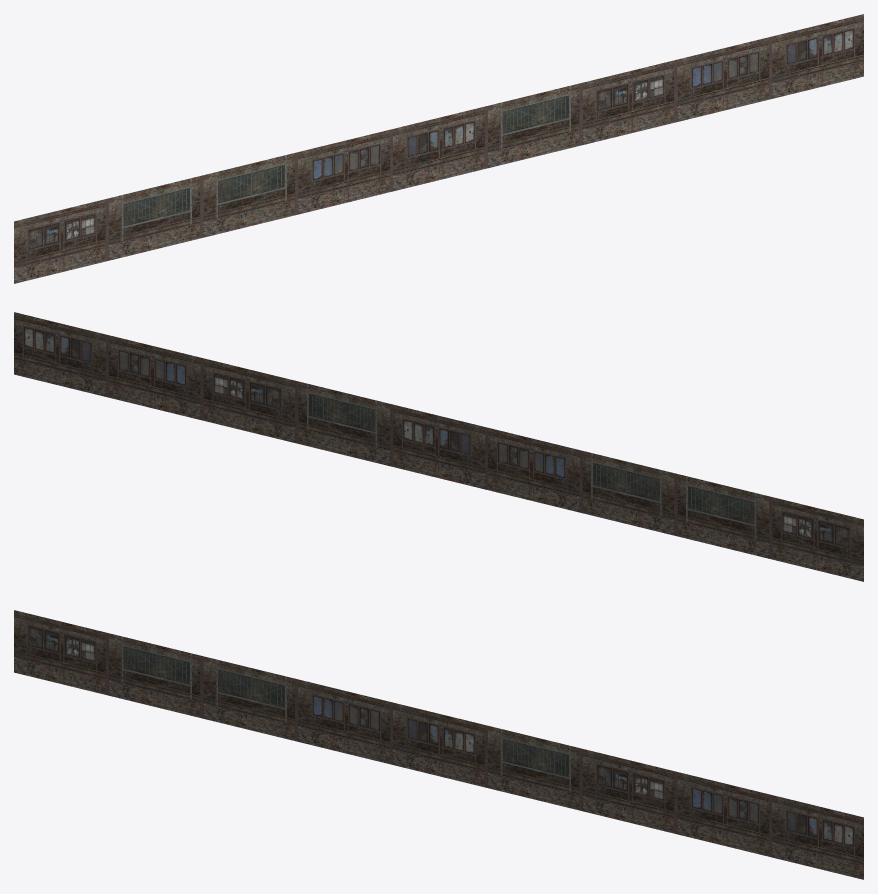
File: L_Wall_Ground.FBX
3 views of the same model, one above another, from view 1: azimuth 30°, elevation 25°; view 2: azimuth 150°, elevation 25°; view 3: azimuth 330°, elevation 25° (orthographic).
Parts seen in each view (by area): view 1: L_Wall_Ground; view 2: L_Wall_Ground; view 3: L_Wall_Ground.
Part boxes in pixels (x1=…): L_Wall_Ground: x1=14, y1=14, x2=863, y2=283; L_Wall_Ground: x1=14, y1=312, x2=863, y2=581; L_Wall_Ground: x1=14, y1=610, x2=863, y2=879.
Bounding box in the file's own units: 7104 × 499 × 0.0011.
